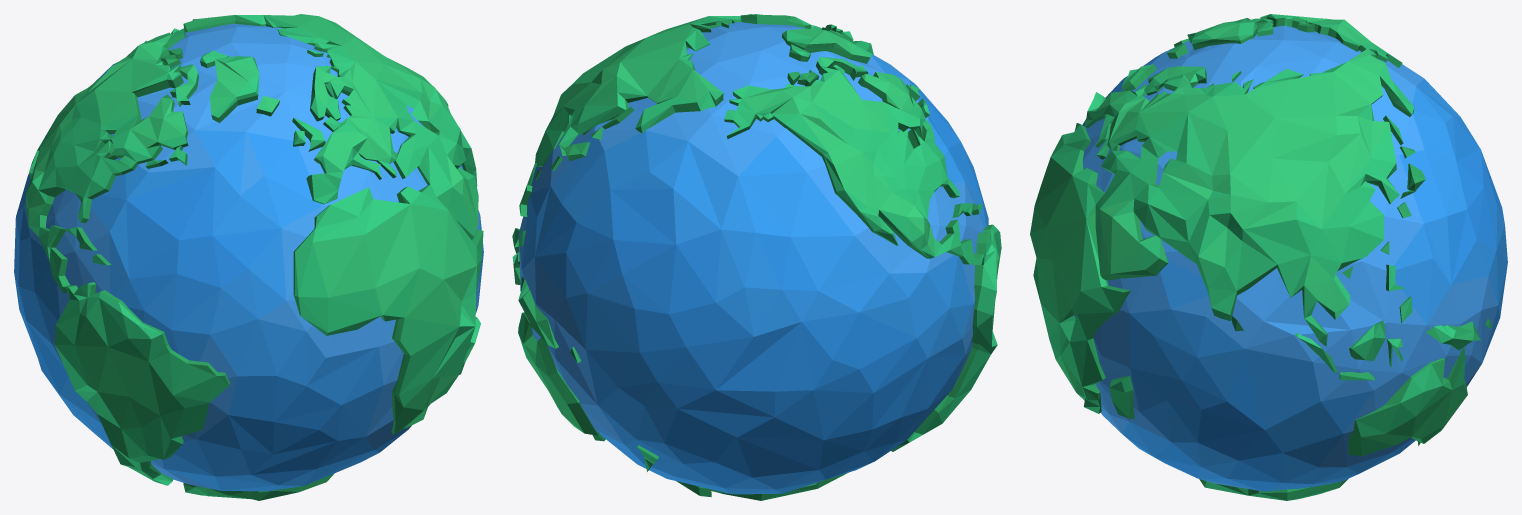
The picture shows the model from 3 angles, left to right: view 1: azimuth 30°, elevation 25°; view 2: azimuth 150°, elevation 25°; view 3: azimuth 270°, elevation 25°; orthographic projection.
Parts seen in each view (by area): view 1: flatEarth_lands, flatEarth_sea; view 2: flatEarth_sea, flatEarth_lands; view 3: flatEarth_lands, flatEarth_sea.
Part boxes in pixels (<box>): flatEarth_lands: <box>26,14,483,500</box>; flatEarth_sea: <box>14,23,483,491</box>; flatEarth_sea: <box>518,22,988,494</box>; flatEarth_lands: <box>512,14,1001,500</box>; flatEarth_lands: <box>1030,14,1492,500</box>; flatEarth_sea: <box>1074,25,1507,491</box>.
Size of the model in its own units: 1.55 by 1.55 by 1.54.
Materials: 1 (1 with a texture image).
